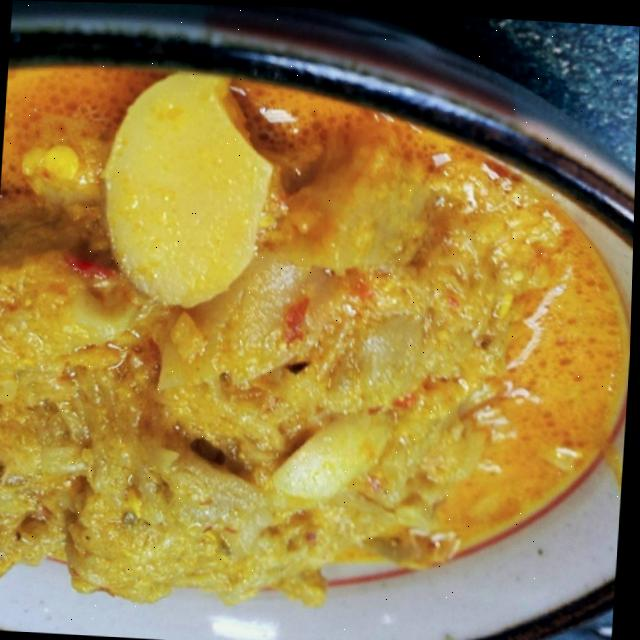熟制海鲜: (0, 20, 640, 640)
